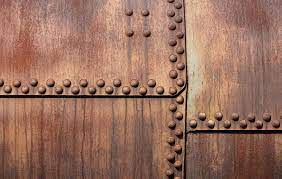rust: (1, 2, 280, 177)
